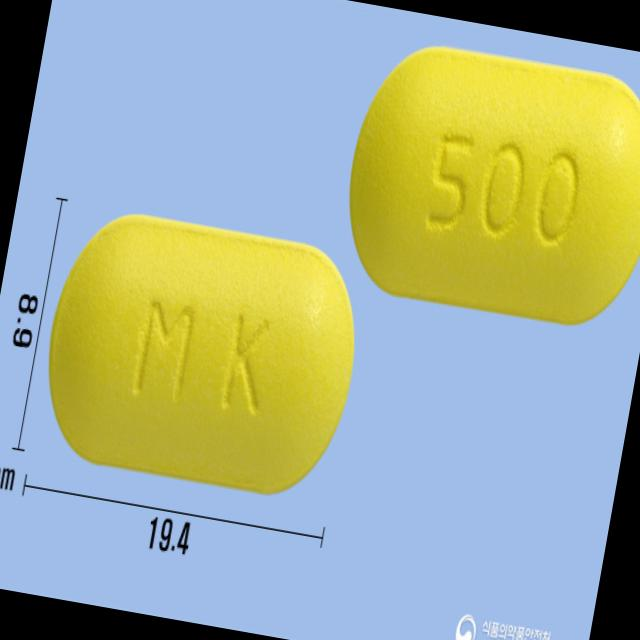Craycin: (29, 200, 373, 504), (332, 34, 640, 335)
